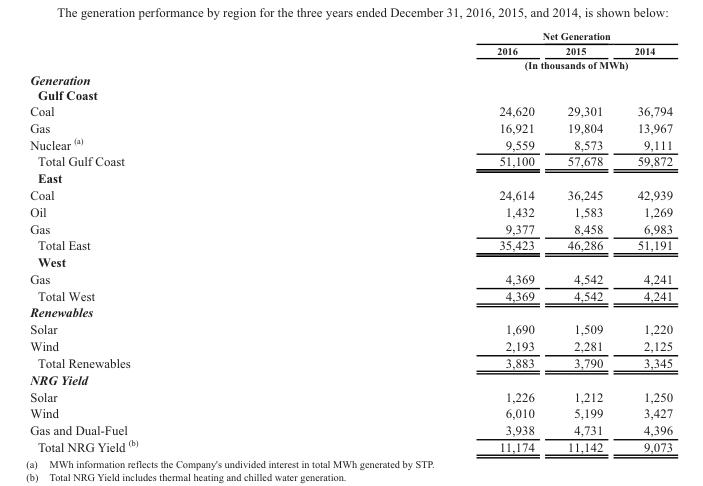table: (29, 28, 672, 454)
table column: (29, 28, 316, 454), (316, 28, 549, 454), (549, 28, 618, 454), (618, 28, 672, 454)
table column header: (29, 28, 672, 70)
table projected row header: (29, 303, 672, 320), (29, 370, 672, 387), (29, 70, 672, 86), (29, 86, 672, 102), (29, 169, 672, 185), (29, 253, 672, 269)
table row: (29, 118, 672, 135), (29, 135, 672, 152), (29, 152, 672, 169), (29, 185, 672, 202), (29, 202, 672, 219), (29, 219, 672, 236), (29, 236, 672, 253), (29, 269, 672, 286), (29, 286, 672, 303), (29, 303, 672, 320), (29, 320, 672, 337), (29, 337, 672, 354), (29, 370, 672, 387), (29, 387, 672, 404), (29, 404, 672, 421), (29, 437, 672, 454), (29, 70, 672, 86), (29, 86, 672, 102), (29, 102, 672, 118), (29, 169, 672, 185), (29, 253, 672, 269), (29, 354, 672, 370), (29, 421, 672, 437), (29, 42, 672, 57), (29, 28, 672, 42), (29, 57, 672, 70)
table spanning cell: (316, 28, 672, 42), (316, 57, 672, 70)
